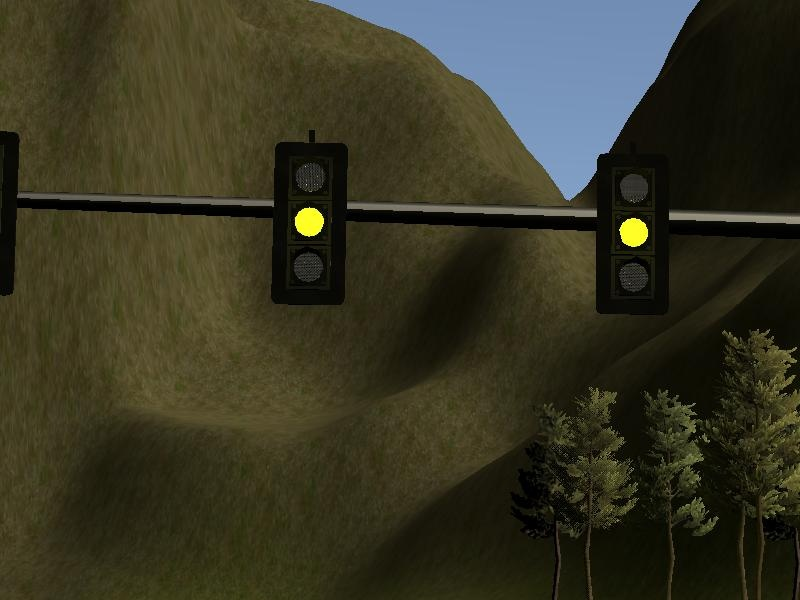YELLOW: (269, 138, 349, 308), (593, 148, 673, 318)
